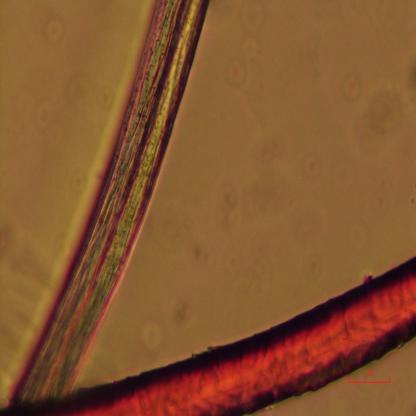Background material: (209, 131, 291, 229), (356, 86, 404, 153), (59, 56, 98, 113), (221, 38, 260, 93), (182, 240, 217, 269), (173, 286, 196, 327), (138, 320, 166, 352), (42, 18, 66, 47)
Hair textile: (33, 253, 416, 416)
Microfibre: (9, 0, 210, 406)
